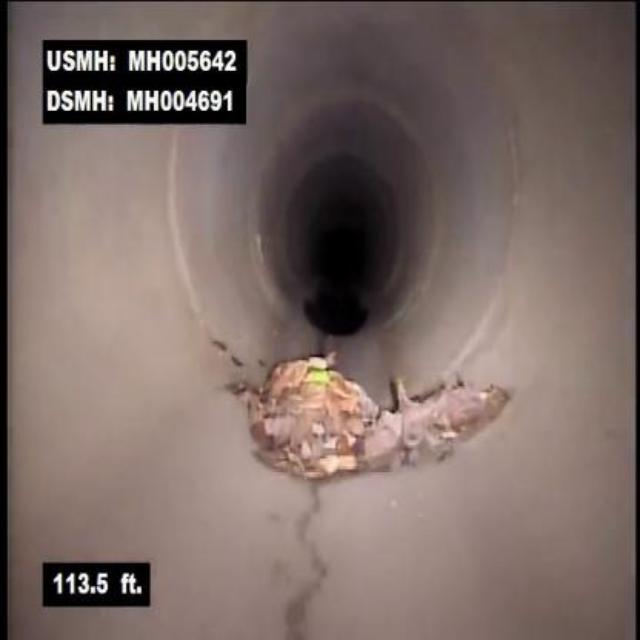Debris: (214, 349, 517, 503)
